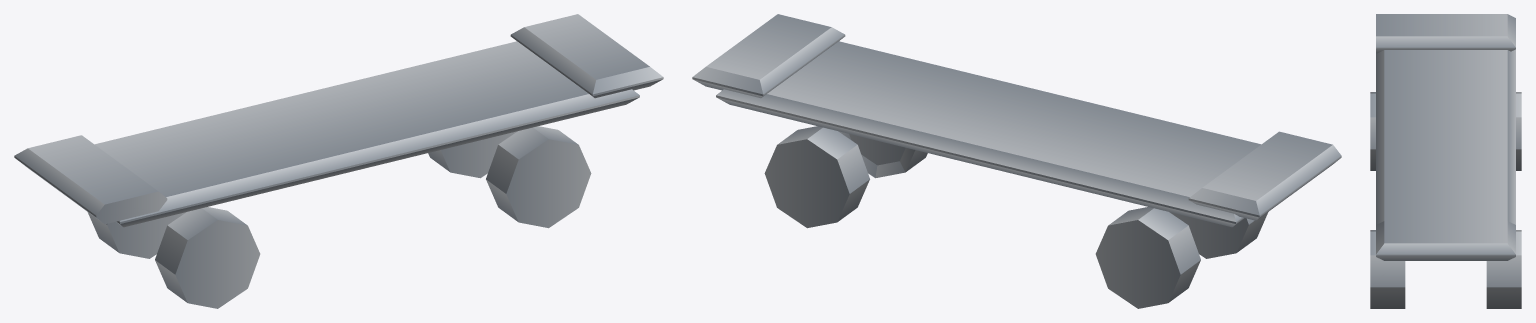
The model's file is dt_skateboard.fbx.
3 views of the same model, side by side, from view 1: azimuth 30°, elevation 25°; view 2: azimuth 150°, elevation 25°; view 3: azimuth 270°, elevation 25° (orthographic). The views are drawn at different scales.
Visible parts, largest first — view 1: dt_skateboard; view 2: dt_skateboard; view 3: dt_skateboard.
Boxes of the visible parts, <box> form: dt_skateboard: <box>14,14,663,308</box>; dt_skateboard: <box>692,14,1341,308</box>; dt_skateboard: <box>1370,14,1521,308</box>.
Bounding box in the file's own units: 220 × 47.67 × 59.58.
